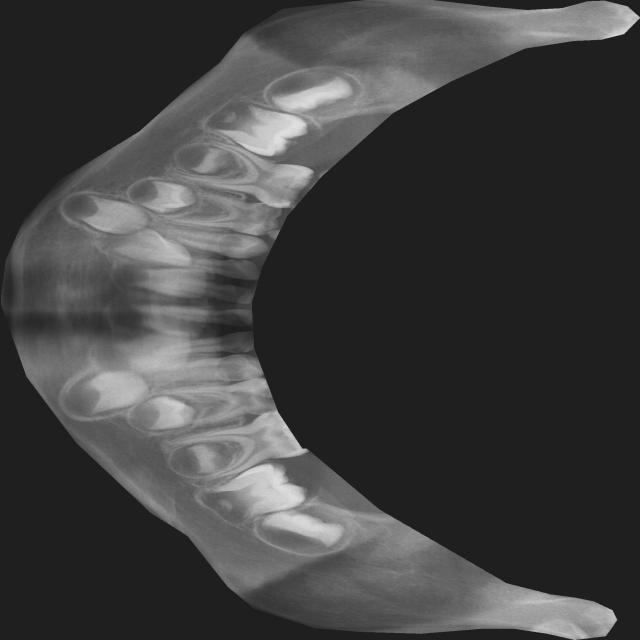mandibula: (0, 0, 639, 640)
